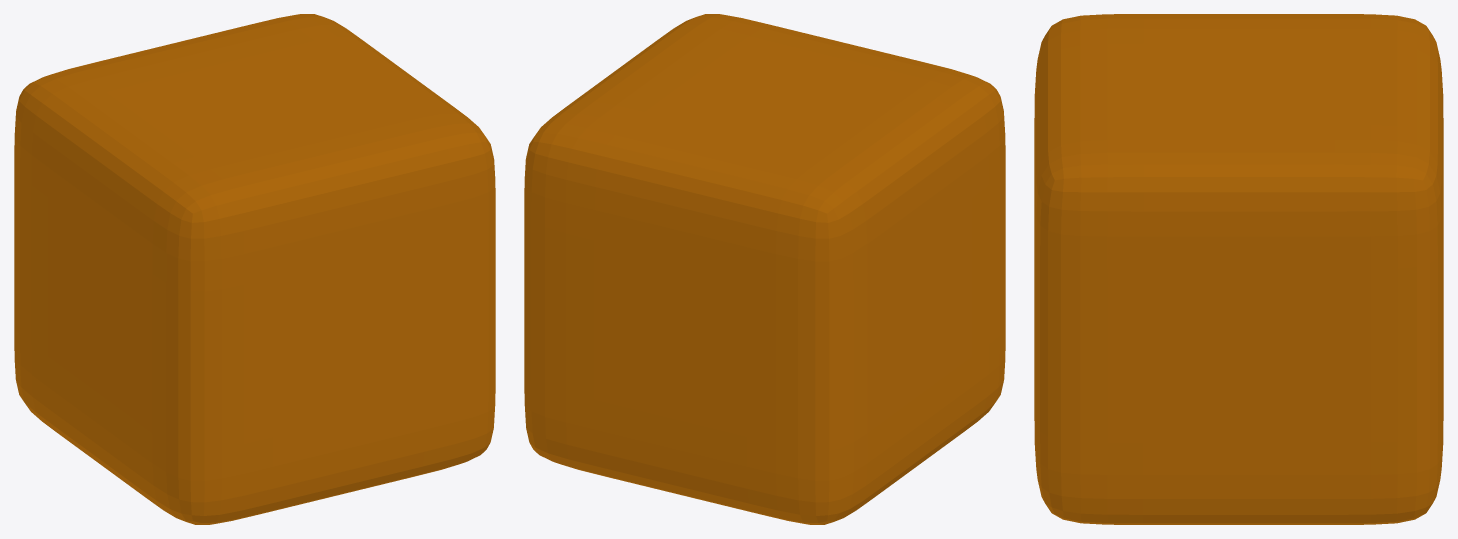
The model's file is package.glb.
3 views of the same model, side by side, from view 1: azimuth 30°, elevation 25°; view 2: azimuth 150°, elevation 25°; view 3: azimuth 270°, elevation 25° (orthographic). The views are drawn at different scales.
Parts seen in each view (by area): view 1: Cube; view 2: Cube; view 3: Cube.
Boxes of the visible parts, bbox=[...] form: Cube: bbox=[14, 14, 495, 524]; Cube: bbox=[524, 14, 1005, 524]; Cube: bbox=[1034, 14, 1443, 524].
Size of the model in its own units: 0.5 by 0.5 by 0.5.
